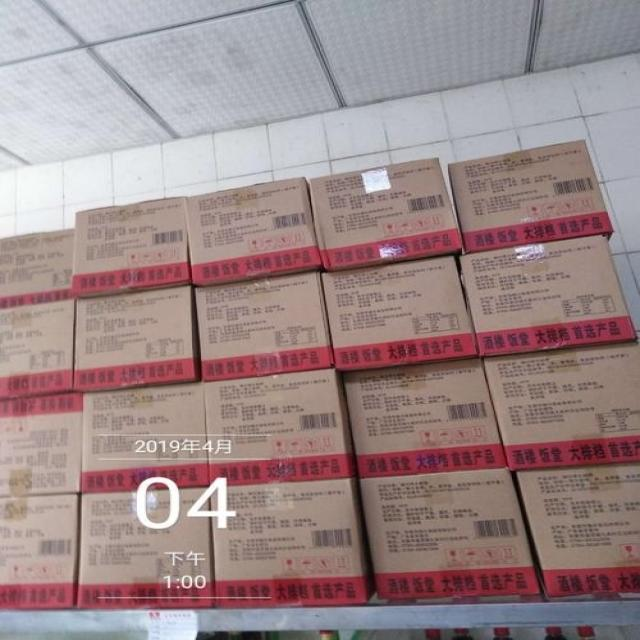box: (356, 467, 541, 598), (455, 236, 639, 358), (213, 479, 378, 608), (479, 341, 639, 472), (341, 357, 506, 480), (446, 139, 611, 253), (320, 254, 477, 373), (203, 369, 357, 486), (512, 463, 639, 601), (311, 157, 462, 272), (74, 488, 212, 609), (190, 273, 334, 382), (184, 175, 322, 283), (79, 382, 207, 496), (76, 286, 198, 392), (75, 197, 194, 300), (0, 496, 81, 611), (0, 393, 85, 495), (0, 300, 76, 399), (0, 230, 74, 308)
